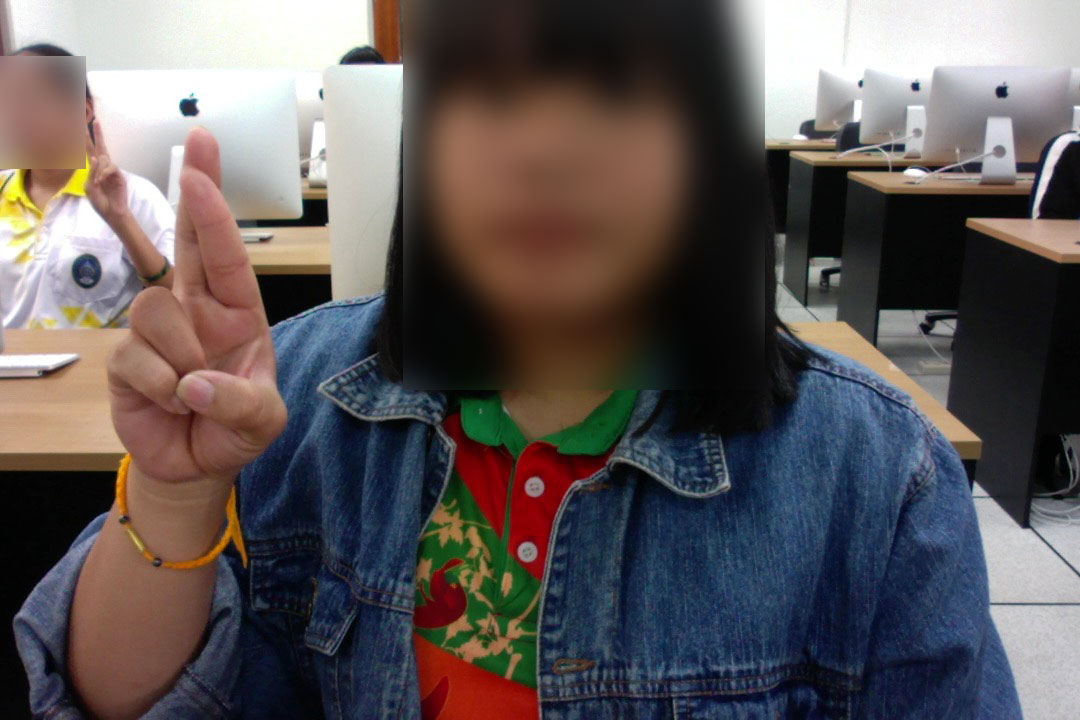rao: (88, 118, 296, 488)
